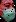with_mask: (1, 2, 16, 22)
